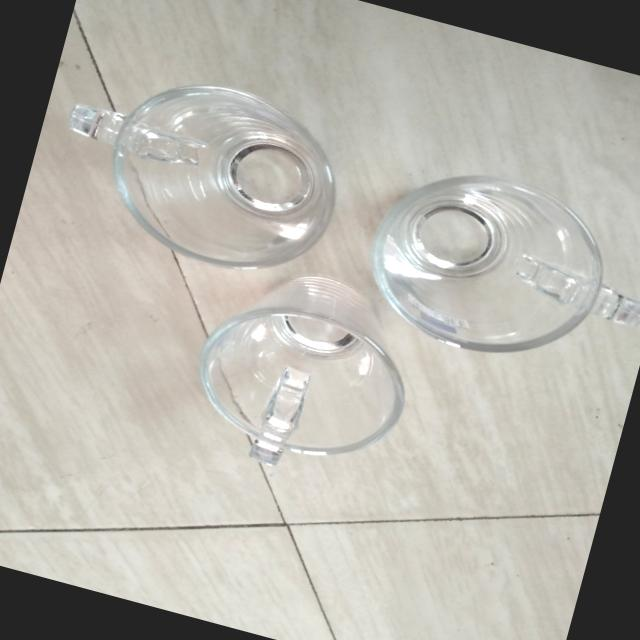glass-VX4N: (46, 46, 364, 290), (348, 151, 640, 394), (173, 244, 434, 496)
